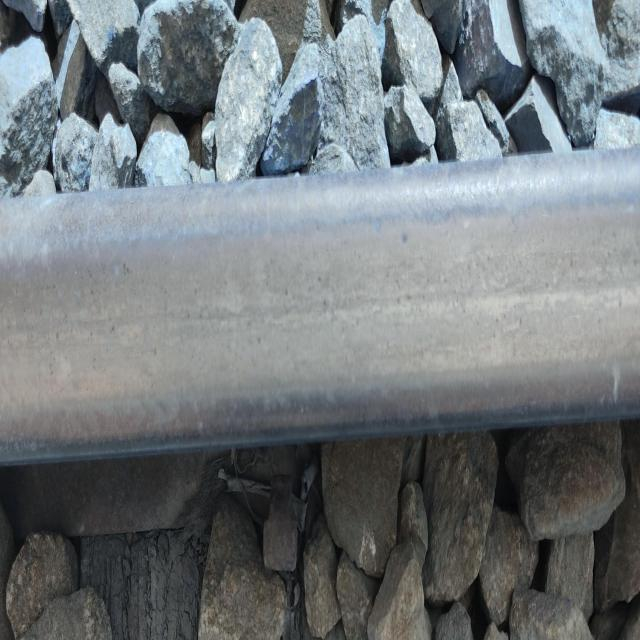Good Fasteners: (263, 476, 297, 572)
